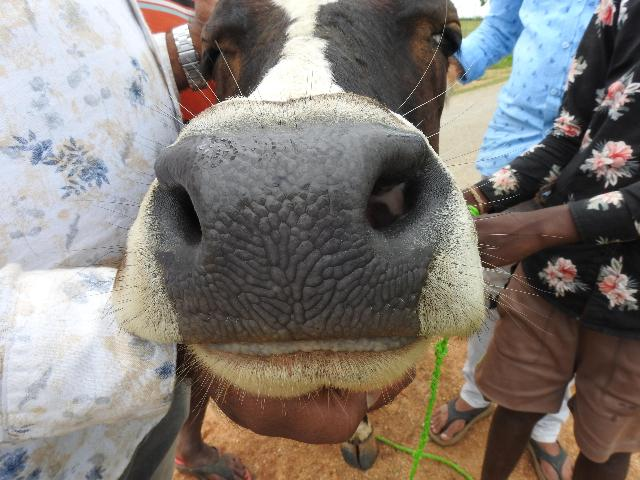Muzzle: (163, 129, 411, 341)
